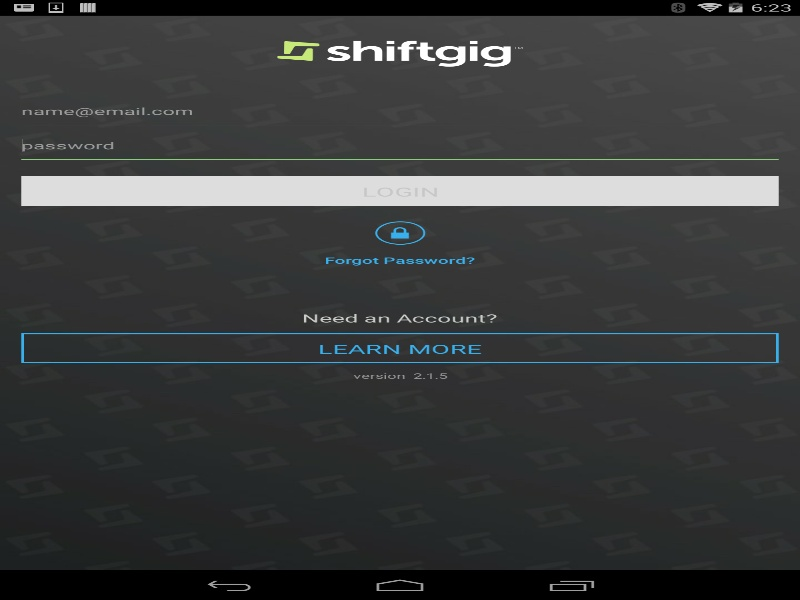Button: (21, 175, 778, 205), (21, 245, 778, 275), (21, 333, 778, 363)
Input: (21, 97, 778, 125), (21, 131, 778, 159)
